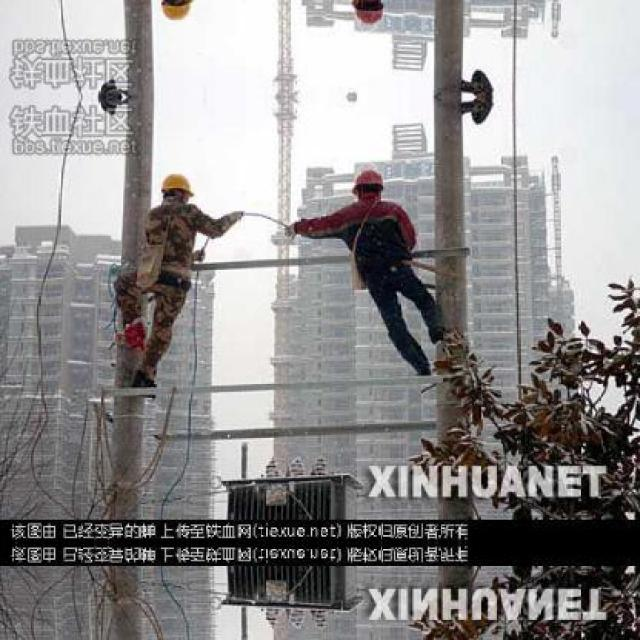helmet: (157, 170, 194, 211), (350, 164, 385, 205), (349, 0, 386, 31), (157, 0, 195, 25)
